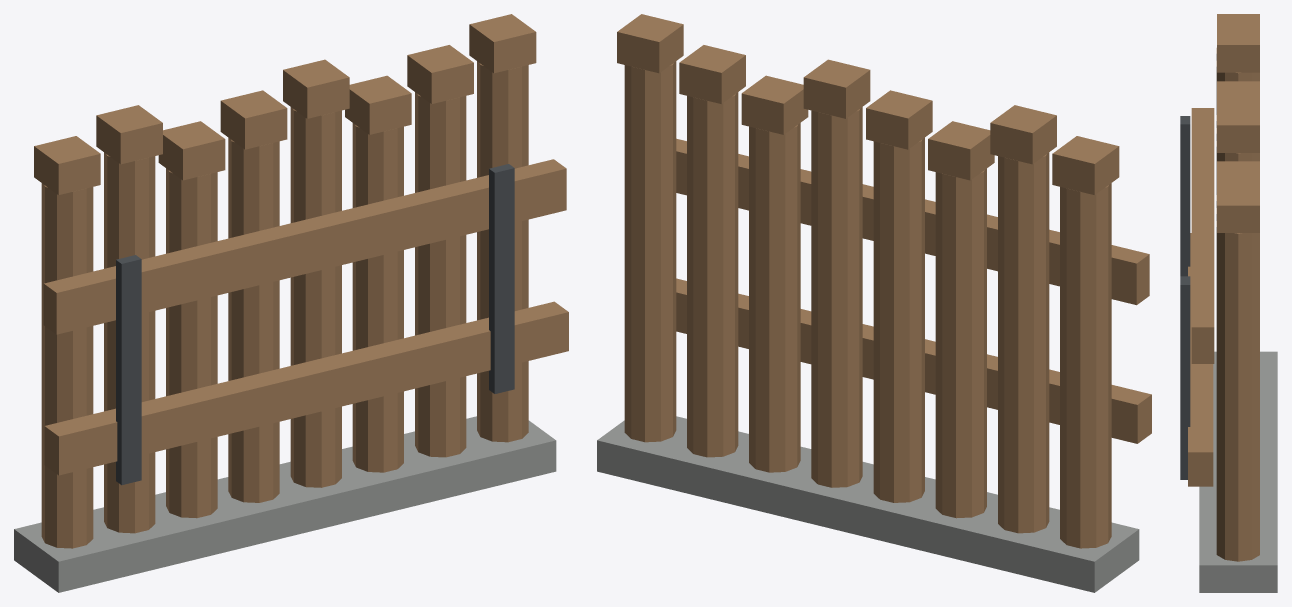
The model's file is SM_AET_Palisade_Wall_A01.fbx.
3 renders of one model, left to right at view 1: azimuth 30°, elevation 25°; view 2: azimuth 150°, elevation 25°; view 3: azimuth 270°, elevation 25°, orthographic. The views are drawn at different scales.
Parts seen in each view (by area): view 1: StoneFooting_Main, Brace_Timber_FrontUpper, Brace_Timber_FrontLower, Stake_Timber_05, Stake_Timber_01, Stake_Timber_04, Stake_Timber_07, Stake_Timber_03, Stake_Timber_06, Stake_Timber_08, Stake_Timber_02, IronStrap_Left (+9 smaller); view 2: StoneFooting_Main, Stake_Timber_08, Stake_Timber_02, Stake_Timber_05, Stake_Timber_04, Stake_Timber_07, Stake_Timber_01, Stake_Timber_06, Stake_Timber_03, Brace_Timber_FrontUpper, Brace_Timber_FrontLower, Stake_Point_01 (+7 smaller); view 3: Stake_Timber_08, StoneFooting_Main, Brace_Timber_FrontUpper, Brace_Timber_FrontLower, IronStrap_Right, Stake_Point_02, Stake_Point_05, Stake_Point_08, IronStrap_Left, Stake_Point_03, Stake_Point_04, Stake_Point_06 (+4 smaller).
Boxes of the visible parts, x1,y1,x2,y2 form: StoneFooting_Main: (14,416,556,592); Brace_Timber_FrontUpper: (43,159,566,334); Brace_Timber_FrontLower: (44,301,568,475); Stake_Timber_05: (290,107,341,487); Stake_Timber_01: (41,183,93,548); Stake_Timber_04: (228,138,279,502); Stake_Timber_07: (415,92,466,457); Stake_Timber_03: (166,168,217,518); Stake_Timber_06: (352,123,403,472); Stake_Timber_08: (477,61,528,442); Stake_Timber_02: (104,152,155,533); IronStrap_Left: (116,255,141,485); StoneFooting_Main: (597,416,1139,592); Stake_Timber_08: (624,61,676,442); Stake_Timber_02: (998,152,1049,533); Stake_Timber_05: (811,107,862,487); Stake_Timber_04: (873,137,924,502); Stake_Timber_07: (687,92,738,457); Stake_Timber_01: (1060,183,1111,548); Stake_Timber_06: (749,123,800,472); Stake_Timber_03: (935,168,986,518); Brace_Timber_FrontUpper: (676,138,1149,305); Brace_Timber_FrontLower: (676,278,1151,443); Stake_Point_01: (1052,136,1119,195); Stake_Timber_08: (1216,221,1259,561); StoneFooting_Main: (1199,351,1277,592); Brace_Timber_FrontUpper: (1191,108,1214,363); Brace_Timber_FrontLower: (1188,233,1213,486); IronStrap_Right: (1180,276,1190,479); Stake_Point_02: (1217,27,1259,72); Stake_Point_05: (1217,107,1259,152); Stake_Point_08: (1217,187,1259,232); IronStrap_Left: (1180,116,1190,276); Stake_Point_03: (1217,81,1259,94); Stake_Point_04: (1217,94,1259,107); Stake_Point_06: (1217,161,1259,174).
Size of what is drawn, in the model's own units: 7700 by 41000 by 33400.
